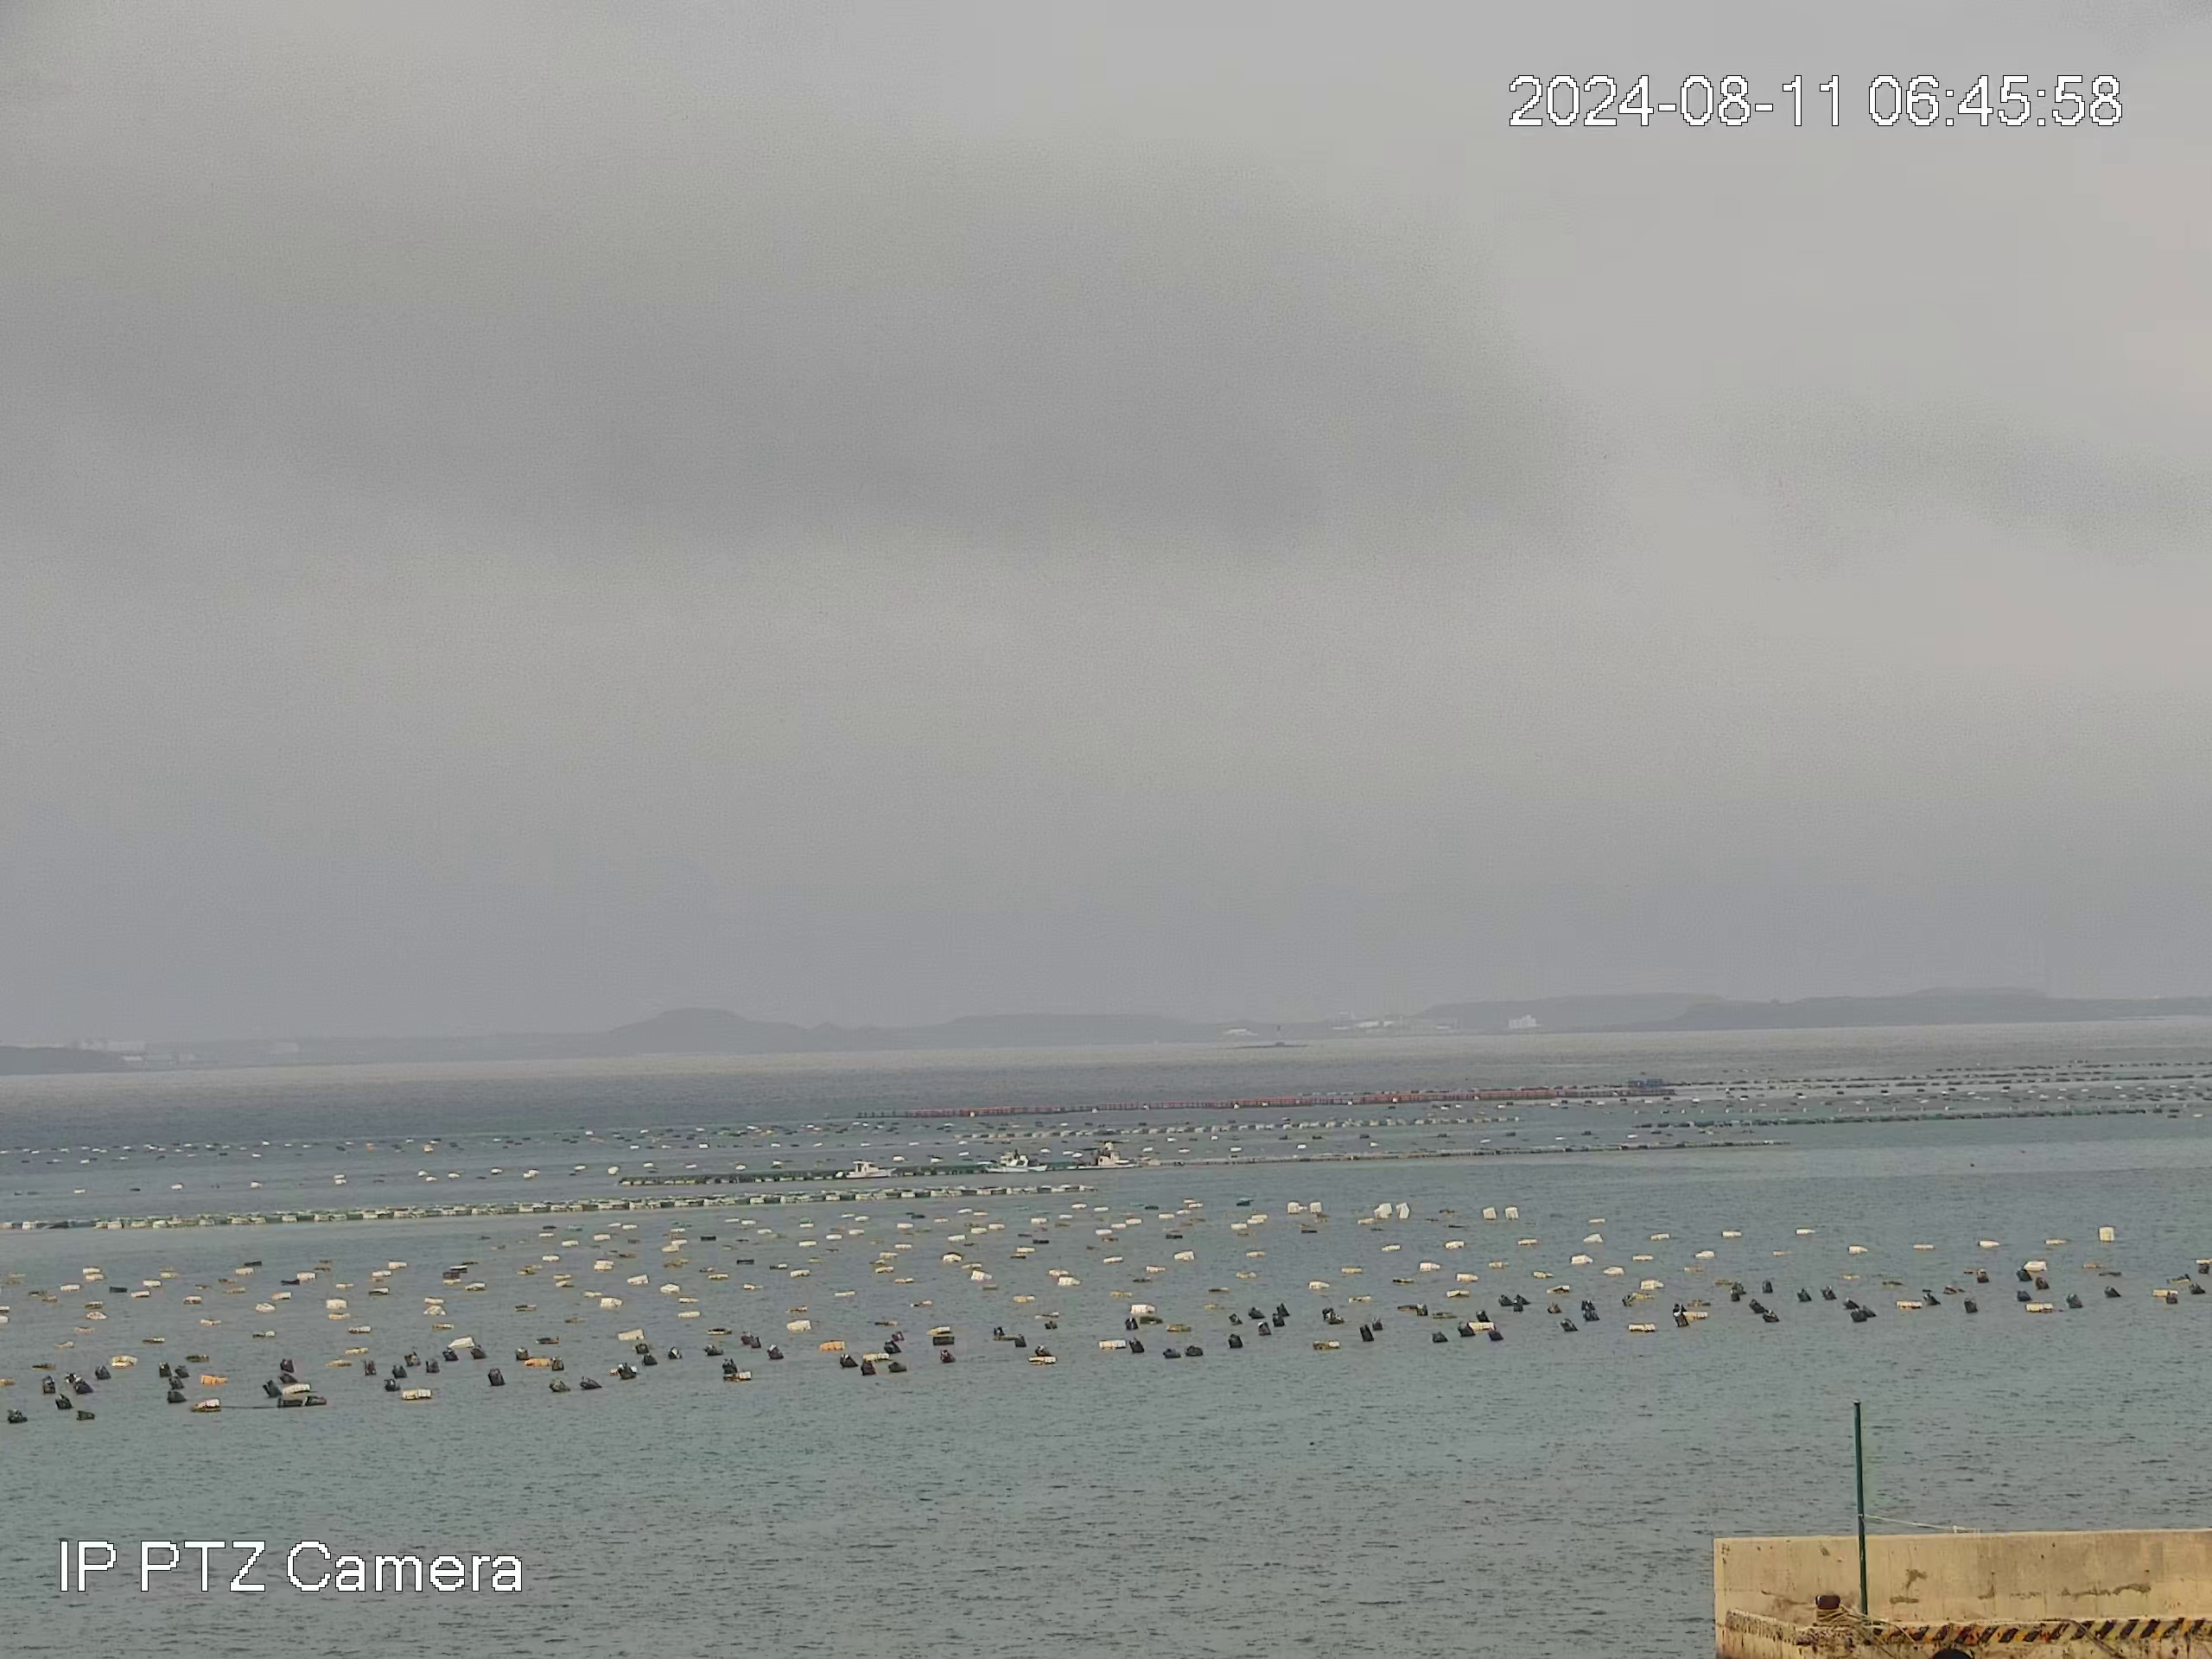boat: (975, 1154, 1049, 1175), (833, 1159, 895, 1178), (1062, 1154, 1118, 1171)
